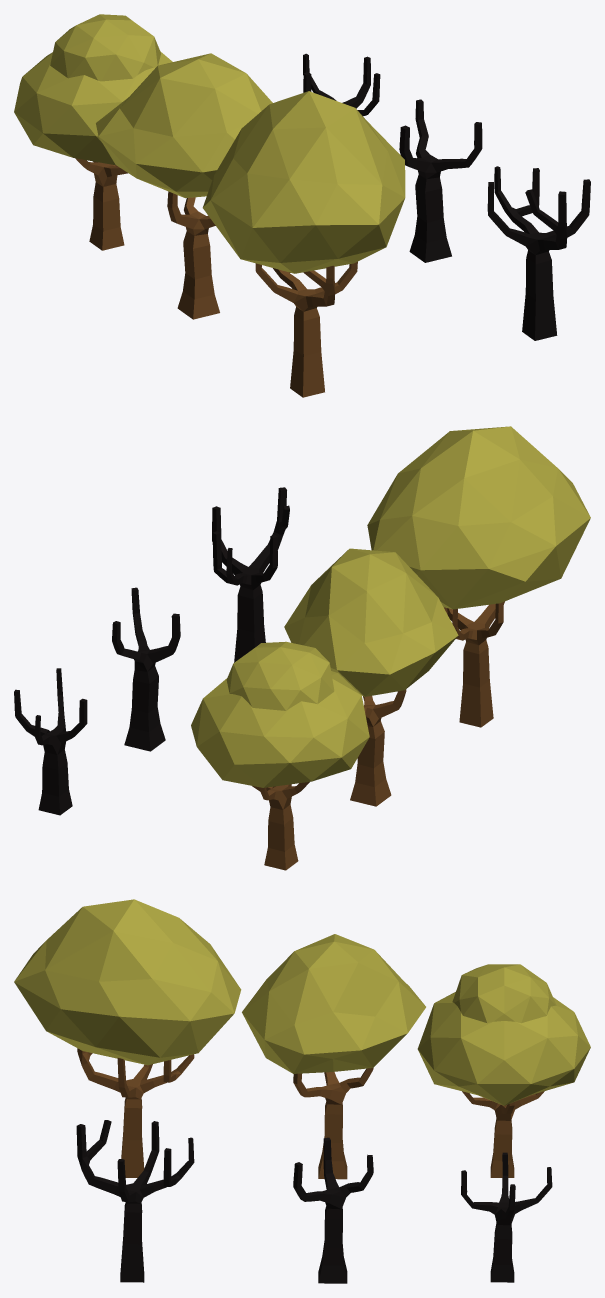
File: modelo_pantanal_arvores.fbx
3 renders of one model, top to bottom at view 1: azimuth 30°, elevation 25°; view 2: azimuth 150°, elevation 25°; view 3: azimuth 270°, elevation 25°, orthographic. The views are drawn at different scales.
Parts seen in each view (by area): view 1: Pantanal Folhagem 3, Pantanal Folhagem 2, Pantanal Folhagem 1, Pantanal Arvore Morta 3, Pantanal Arvore 3, Pantanal Arvore Morta 2, Pantanal Arvore 2, Pantanal Arvore 1, Pantanal Arvore Morta 1; view 2: Pantanal Folhagem 3, Pantanal Folhagem 1, Pantanal Folhagem 2, Pantanal Arvore Morta 3, Pantanal Arvore Morta 2, Pantanal Arvore 3, Pantanal Arvore Morta 1, Pantanal Arvore 2, Pantanal Arvore 1; view 3: Pantanal Folhagem 3, Pantanal Folhagem 2, Pantanal Folhagem 1, Pantanal Arvore Morta 3, Pantanal Arvore 3, Pantanal Arvore Morta 2, Pantanal Arvore Morta 1, Pantanal Arvore 2, Pantanal Arvore 1.
Boxes of the visible parts, x1=… form: Pantanal Folhagem 3: x1=202, y1=91, x2=405, y2=273; Pantanal Folhagem 2: x1=96, y1=53, x2=272, y2=198; Pantanal Folhagem 1: x1=14, y1=14, x2=172, y2=165; Pantanal Arvore Morta 3: x1=487, y1=166, x2=590, y2=340; Pantanal Arvore 3: x1=255, y1=261, x2=357, y2=397; Pantanal Arvore Morta 2: x1=399, y1=99, x2=482, y2=262; Pantanal Arvore 2: x1=167, y1=191, x2=219, y2=319; Pantanal Arvore 1: x1=75, y1=158, x2=127, y2=250; Pantanal Arvore Morta 1: x1=303, y1=53, x2=380, y2=116; Pantanal Folhagem 3: x1=367, y1=426, x2=590, y2=609; Pantanal Folhagem 1: x1=191, y1=641, x2=369, y2=787; Pantanal Folhagem 2: x1=284, y1=548, x2=458, y2=696; Pantanal Arvore Morta 3: x1=212, y1=487, x2=289, y2=662; Pantanal Arvore Morta 2: x1=112, y1=587, x2=180, y2=751; Pantanal Arvore 3: x1=444, y1=601, x2=504, y2=727; Pantanal Arvore Morta 1: x1=14, y1=668, x2=87, y2=815; Pantanal Arvore 2: x1=350, y1=689, x2=406, y2=806; Pantanal Arvore 1: x1=252, y1=782, x2=309, y2=870; Pantanal Folhagem 3: x1=14, y1=899, x2=241, y2=1065; Pantanal Folhagem 2: x1=242, y1=934, x2=425, y2=1073; Pantanal Folhagem 1: x1=417, y1=964, x2=590, y2=1105; Pantanal Arvore Morta 3: x1=76, y1=1120, x2=194, y2=1282; Pantanal Arvore 3: x1=77, y1=1048, x2=194, y2=1177; Pantanal Arvore Morta 2: x1=293, y1=1137, x2=373, y2=1283; Pantanal Arvore Morta 1: x1=461, y1=1152, x2=552, y2=1282; Pantanal Arvore 2: x1=293, y1=1068, x2=373, y2=1179; Pantanal Arvore 1: x1=462, y1=1091, x2=544, y2=1177.
Size of the model in its own units: 707 by 550 by 1046.
